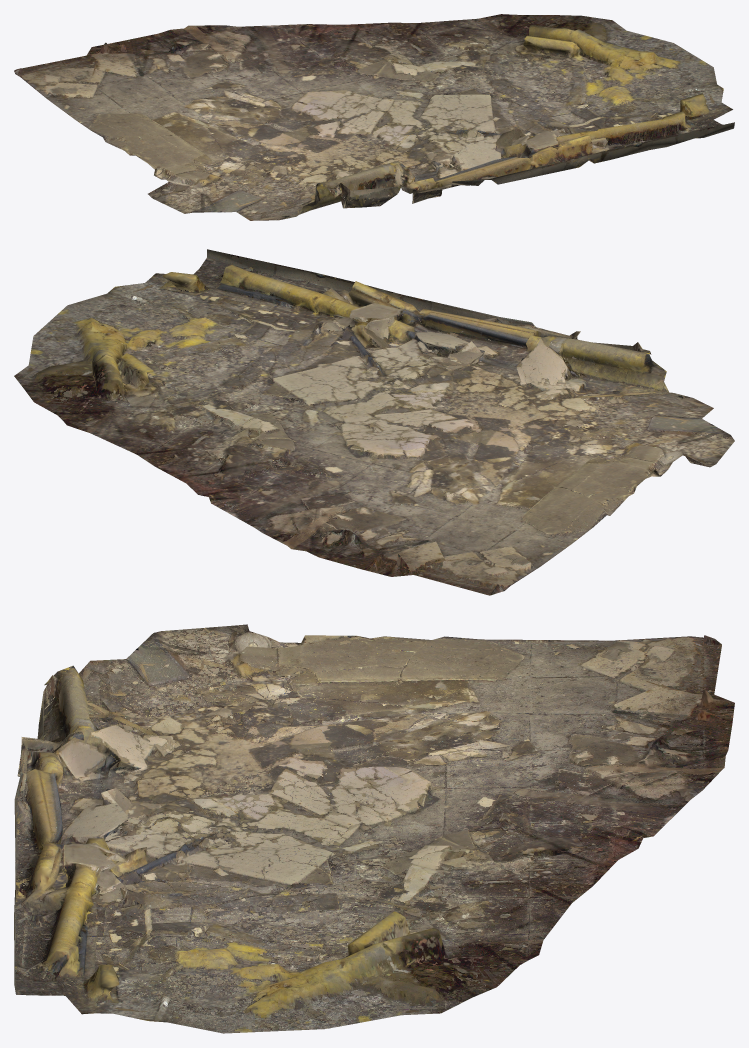
File: sm20_013_debris01.fbx
3 renders of one model, top to bottom at view 1: azimuth 30°, elevation 25°; view 2: azimuth 150°, elevation 25°; view 3: azimuth 270°, elevation 25°, orthographic. The views are drawn at different scales.
Parts seen in each view (by area): view 1: LOD_1_Group_0_Sub_1__sm20_013_debris01_A_Mat; view 2: LOD_1_Group_0_Sub_1__sm20_013_debris01_A_Mat; view 3: LOD_1_Group_0_Sub_1__sm20_013_debris01_A_Mat.
Part boxes in pixels (x1=…): LOD_1_Group_0_Sub_1__sm20_013_debris01_A_Mat: x1=14, y1=14, x2=734, y2=220; LOD_1_Group_0_Sub_1__sm20_013_debris01_A_Mat: x1=14, y1=249, x2=734, y2=595; LOD_1_Group_0_Sub_1__sm20_013_debris01_A_Mat: x1=14, y1=624, x2=734, y2=1033.
Size of the model in its own units: 3.81 by 0.2165 by 2.87.
